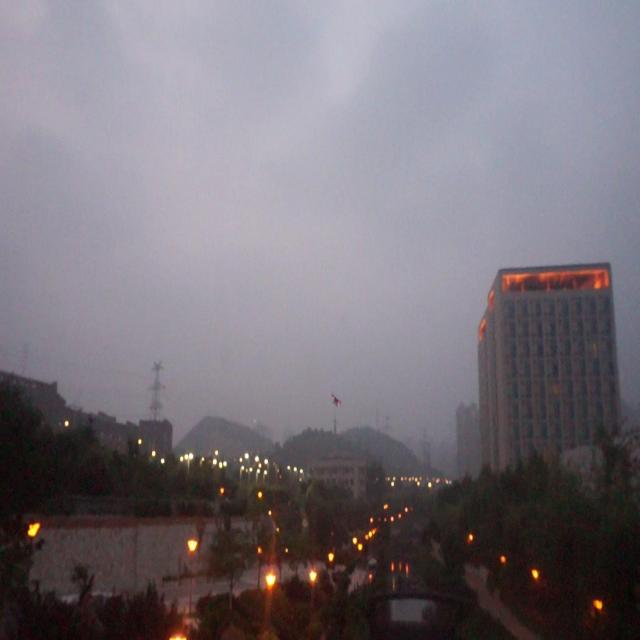drone: (328, 387, 344, 415)
